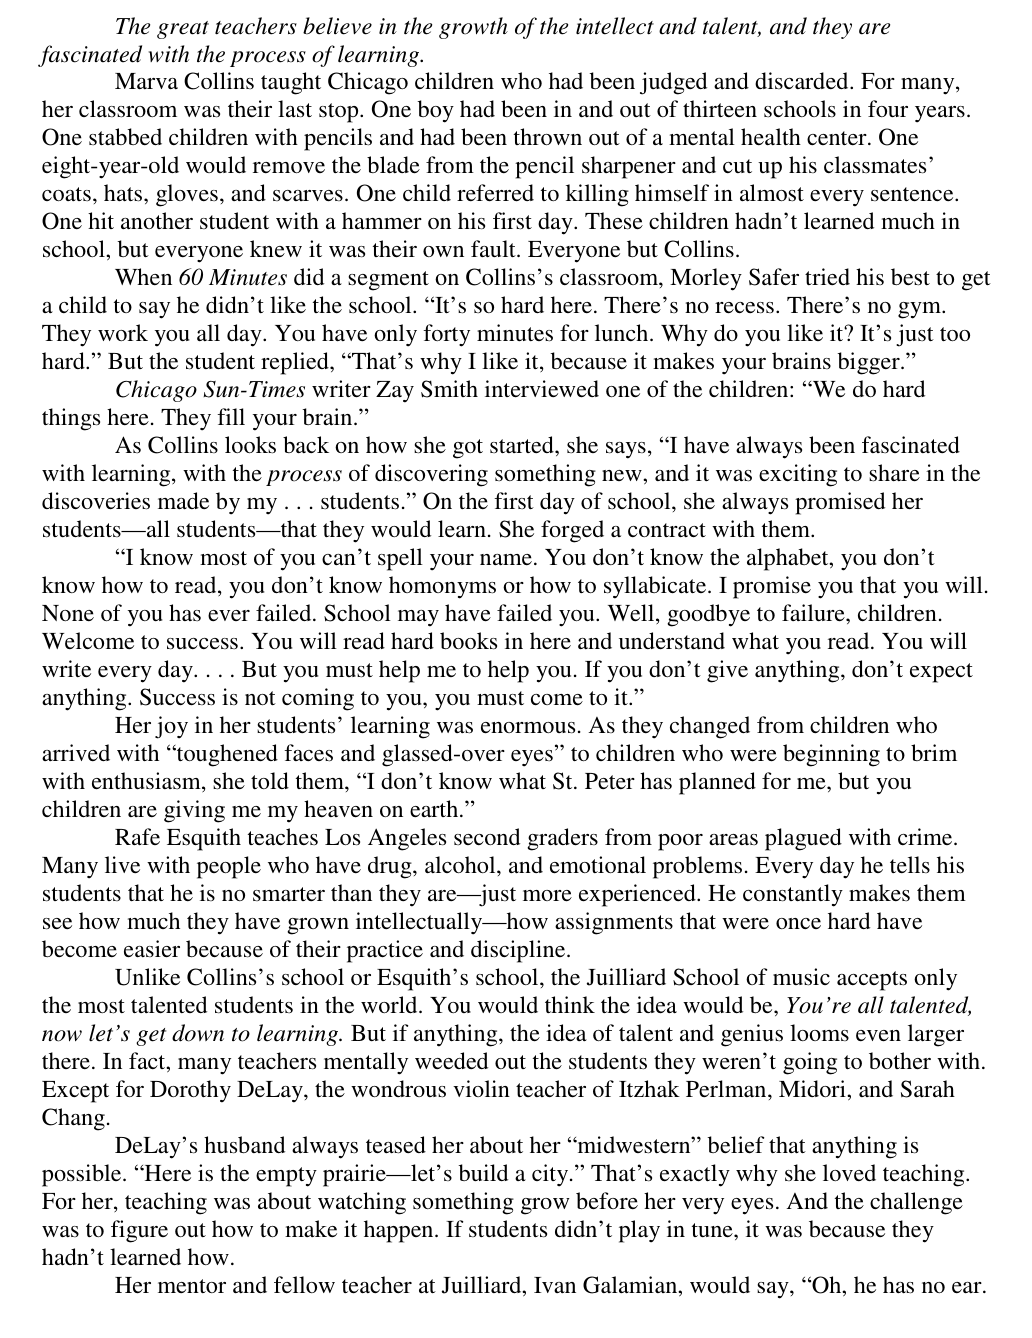latin: (25, 709, 969, 961), (35, 12, 971, 259), (31, 959, 982, 1137), (35, 1138, 986, 1305), (36, 543, 992, 709), (31, 378, 986, 543), (23, 259, 994, 376)
